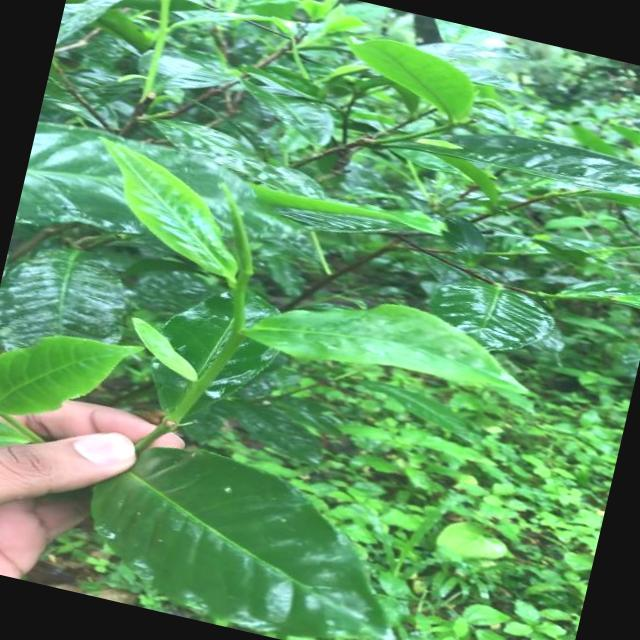Stem: (232, 286, 244, 301)
